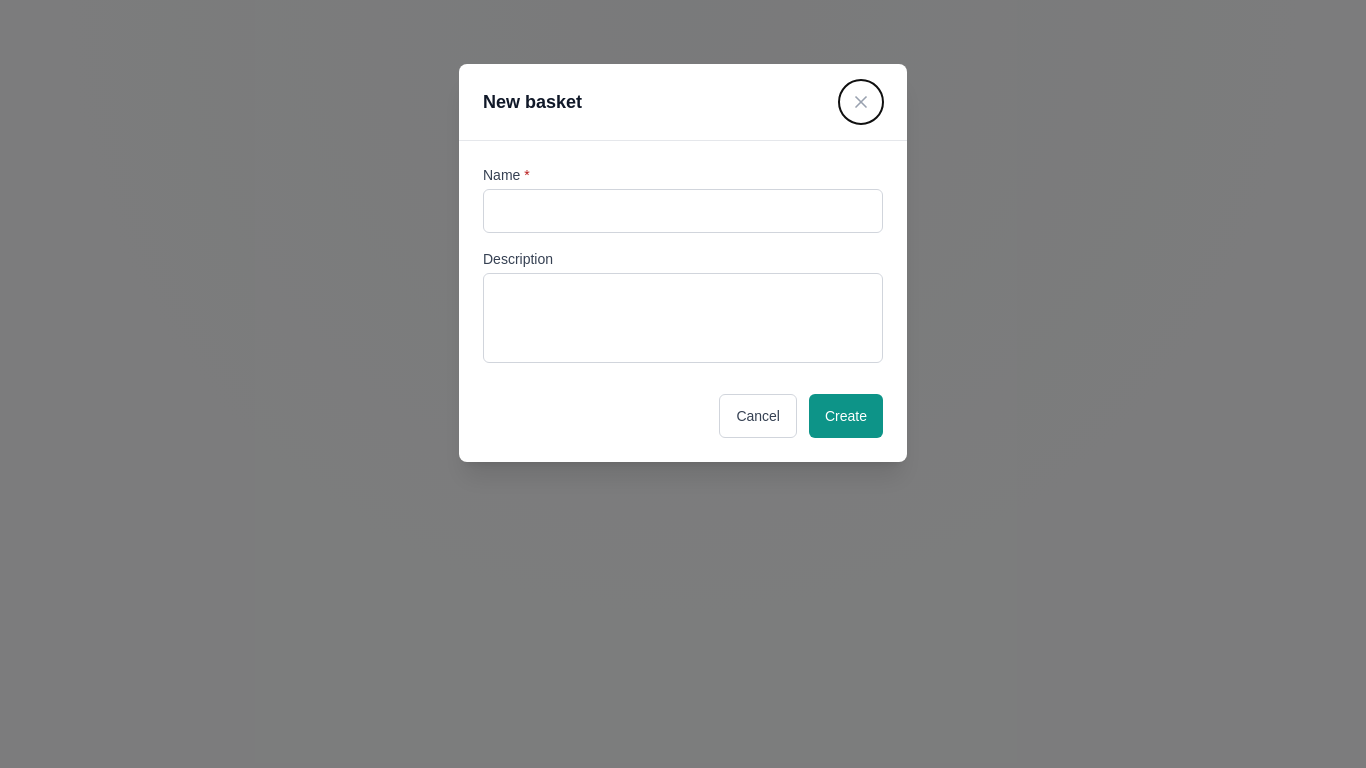
it: BasketFormModal › should show an error and not save when the name is empty
Click the button "Create".
click(846, 416)  # box [809,394,883,438]
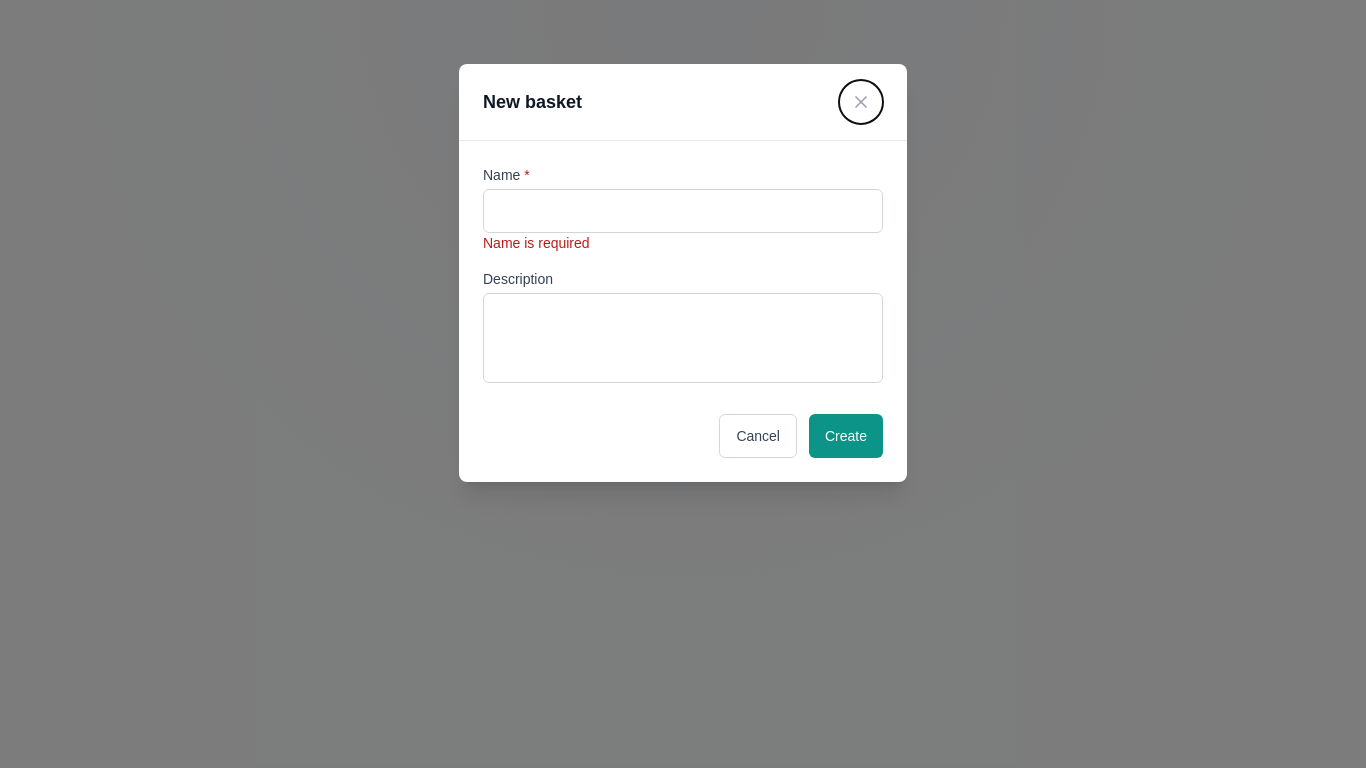
Expected: the text "Name is required" is shown, [483,235,590,251]
